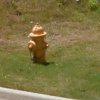Hydrant: (20, 17, 53, 71)
